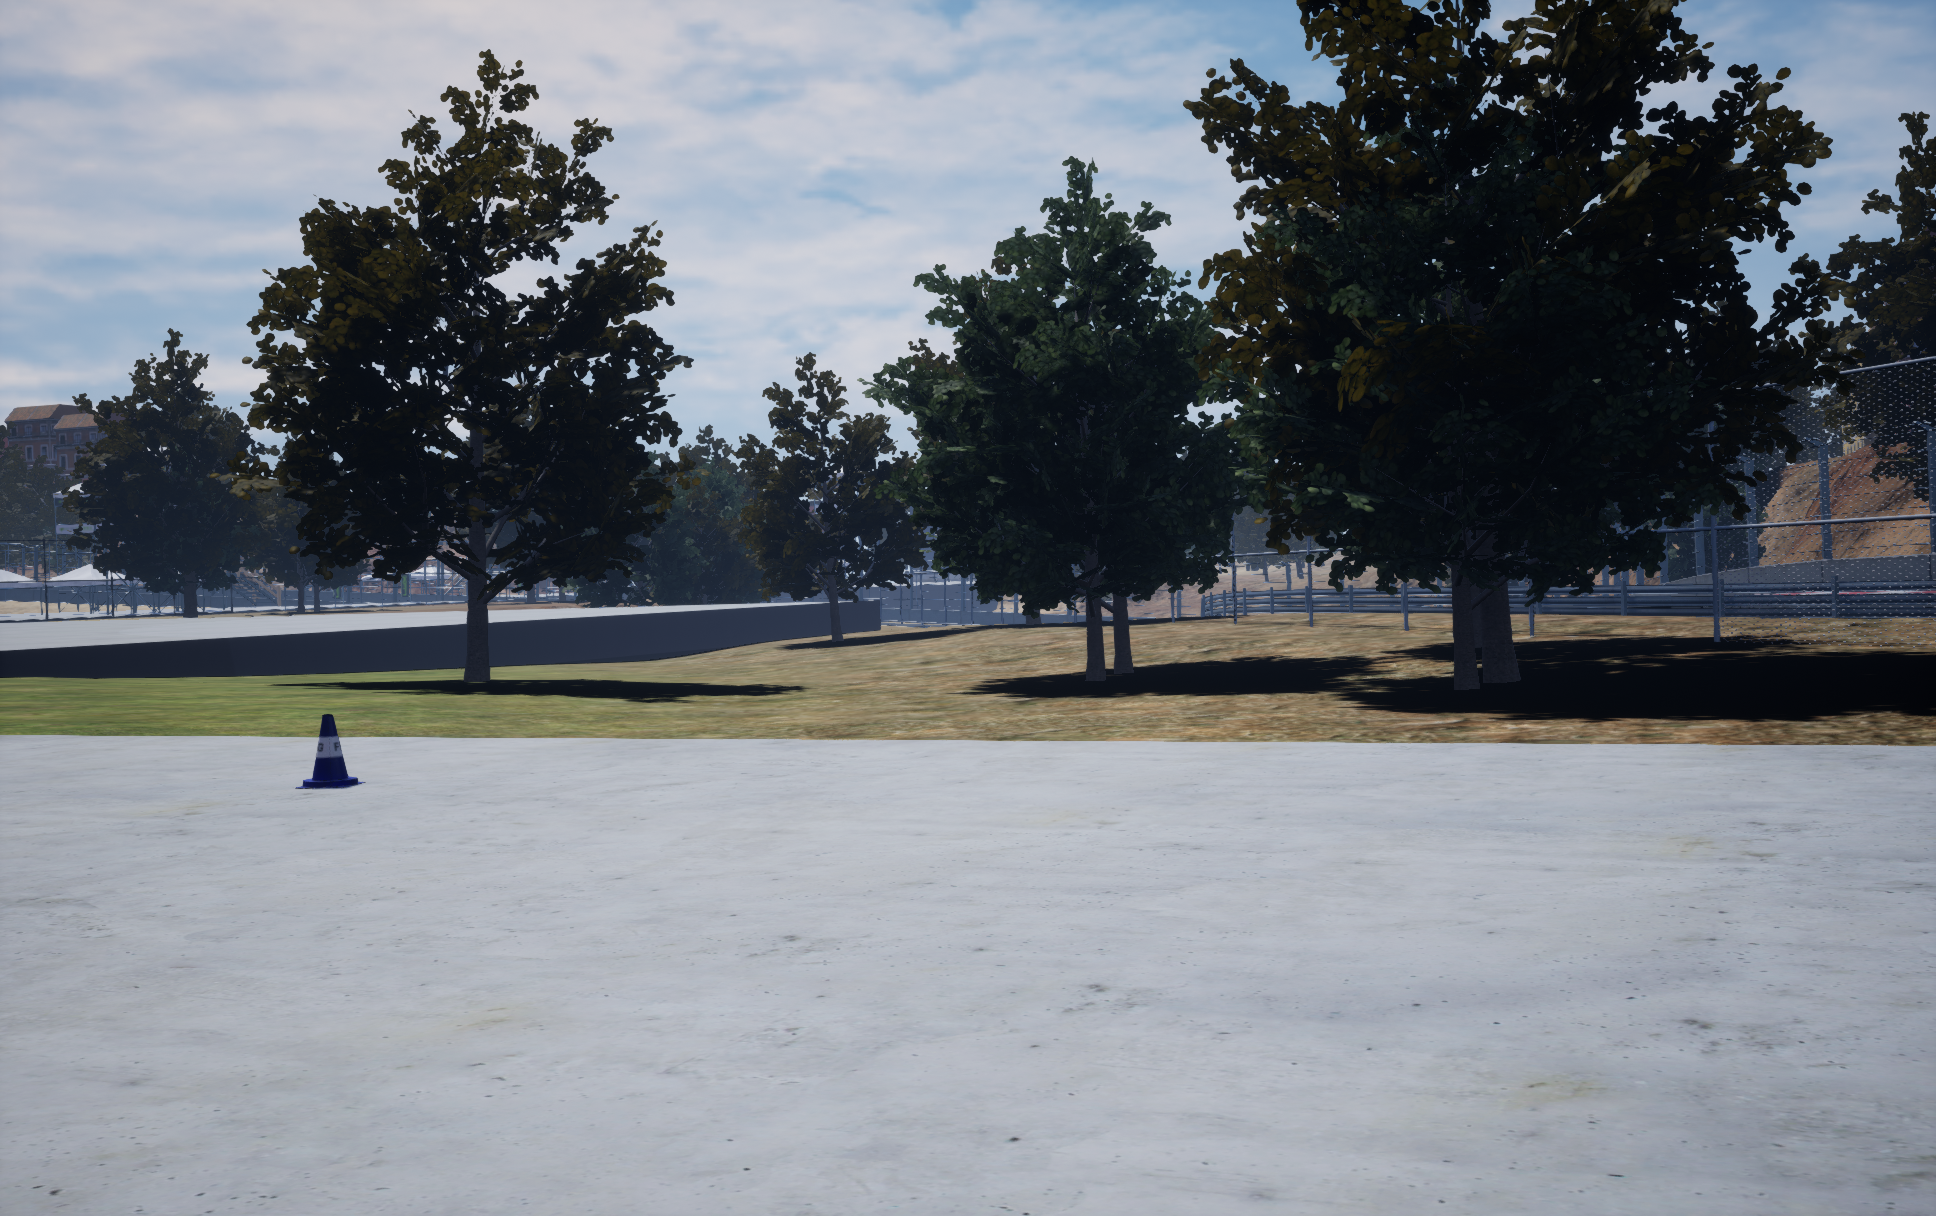yellow: (296, 714, 366, 787)
